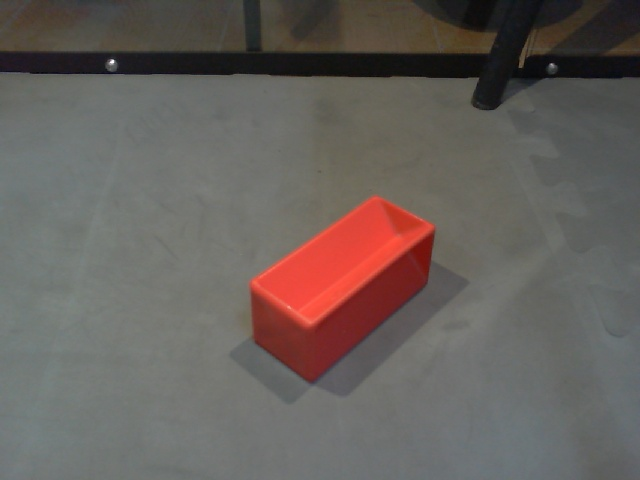RedSample: (244, 192, 438, 383)
